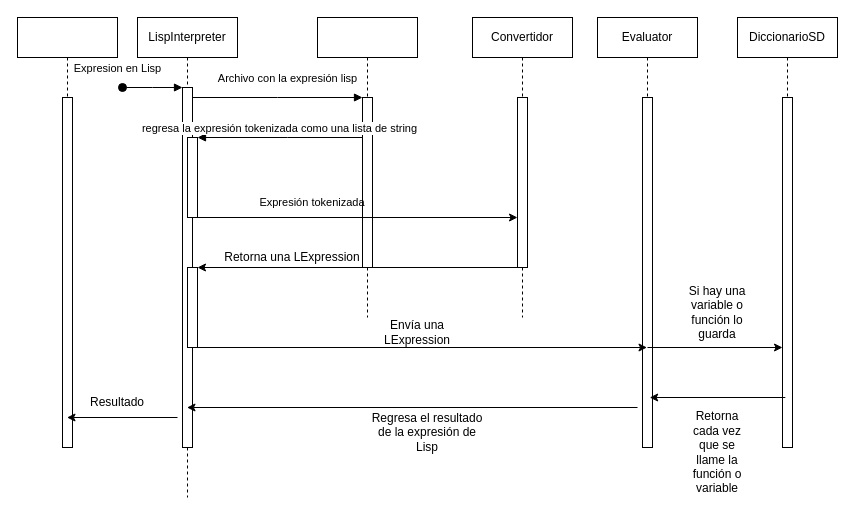
Some shapes in this 855 by 515 pixel diagram are drawn without their labels. The box of each missing label's shape, as (x1, y1, x2, y2) in pixels:
Tokennizer: (316, 16, 418, 318)
Usuario: (16, 16, 118, 448)
